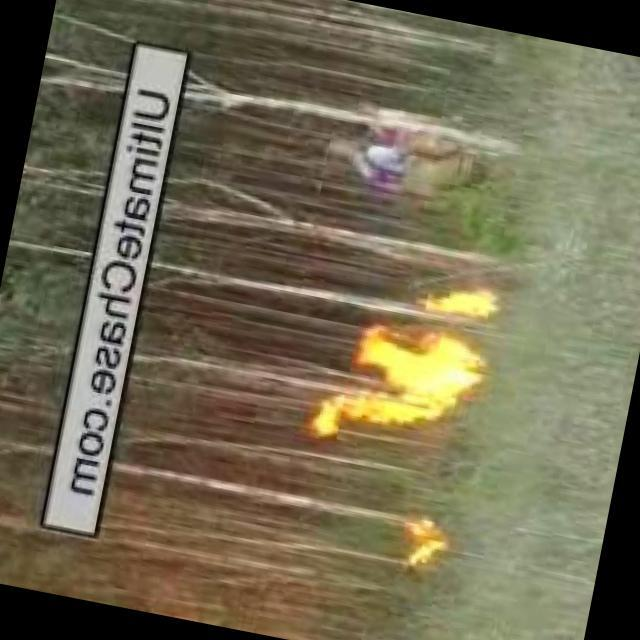Fire: (338, 321, 492, 444), (424, 283, 507, 324), (407, 520, 453, 571)
